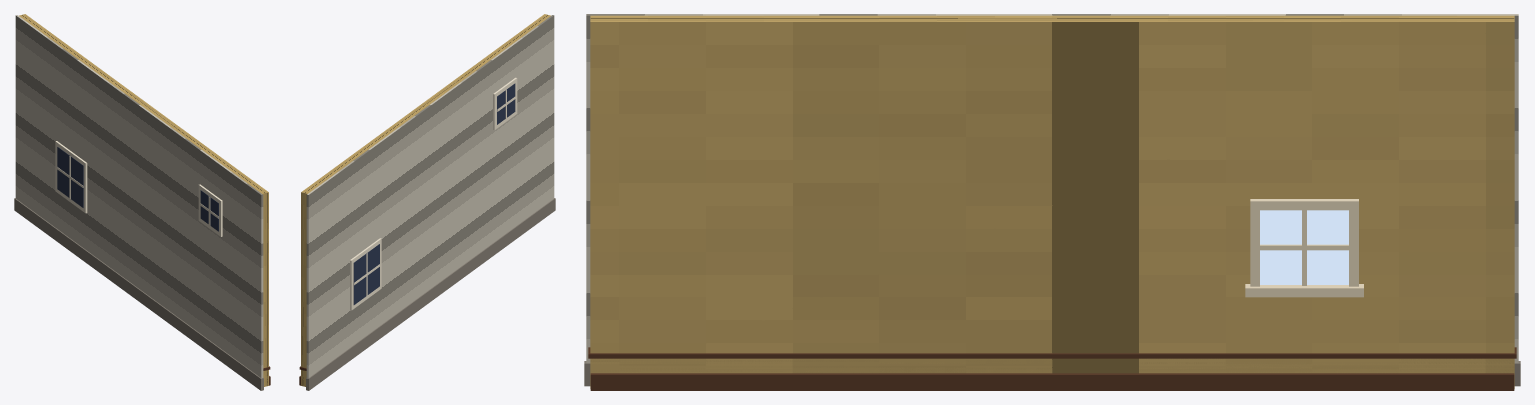
File: right.glb
3 views of the same model, side by side, from view 1: azimuth 30°, elevation 25°; view 2: azimuth 150°, elevation 25°; view 3: azimuth 270°, elevation 25° (orthographic). The views are drawn at different scales.
Parts seen in each view (by area): view 1: Box3, Box4, Box1, Box6, Box5, Box17, Box16; view 2: Box3, Box4, Box1, Box6, Box5, Box17, Box16; view 3: Box1, Box2, Box20, Box13, Box21, Box3, Box10, Box9.
Part boxes in pixels (box(x1,y1,x2,y2)): Box3: box(15, 15, 263, 378); Box4: box(14, 198, 263, 390); Box1: box(19, 14, 268, 386); Box6: box(57, 147, 83, 207); Box5: box(55, 141, 87, 213); Box17: box(200, 190, 218, 231); Box16: box(198, 184, 222, 236); Box3: box(306, 15, 554, 378); Box4: box(306, 198, 555, 390); Box1: box(301, 14, 550, 386); Box6: box(353, 244, 379, 304); Box5: box(350, 238, 381, 310); Box17: box(497, 83, 515, 124); Box16: box(493, 77, 517, 130); Box1: box(590, 15, 1514, 388); Box2: box(590, 373, 1514, 390); Box20: box(590, 358, 1514, 380); Box13: box(1260, 210, 1348, 284); Box21: box(588, 347, 1516, 358); Box3: box(586, 14, 1518, 363); Box10: box(1245, 284, 1363, 297); Box9: box(1250, 199, 1358, 210).
Size of the model in its own units: 0.338 by 4.14 by 9.47.
8 materials, 2 textured.
